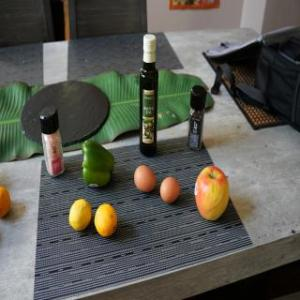bell_pepper: (77, 136, 116, 189)
egg: (130, 164, 156, 196), (158, 177, 182, 205)
